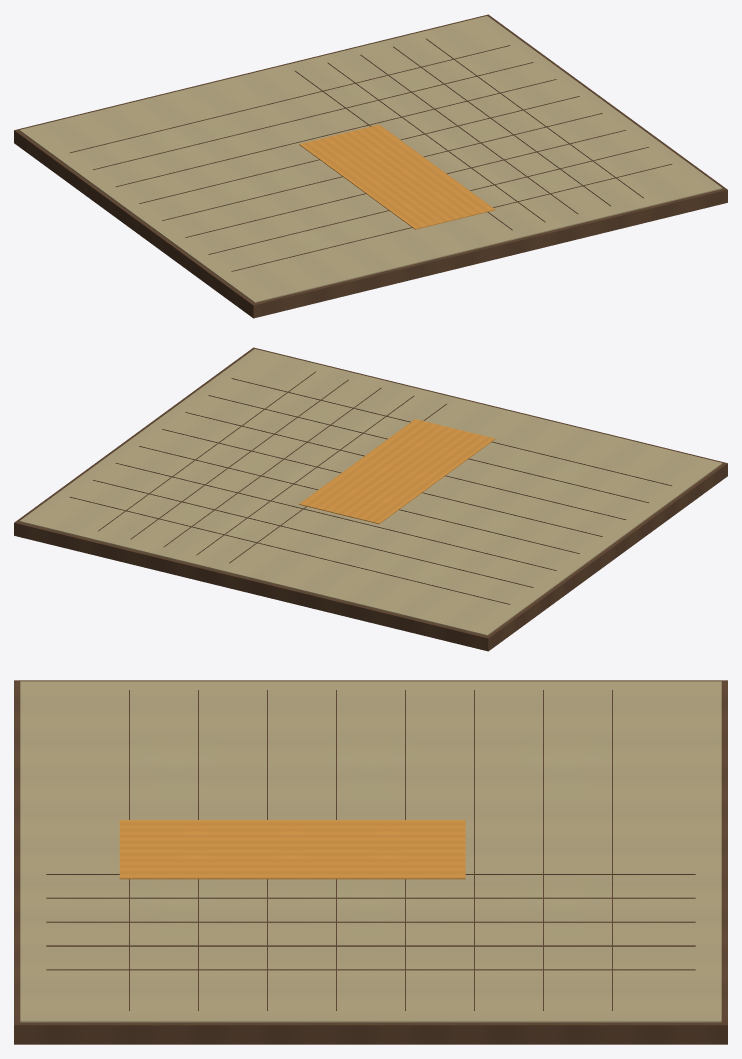
File: atlas100-s011-a07.lod2.glb
3 renders of one model, top to bottom at view 1: azimuth 30°, elevation 25°; view 2: azimuth 150°, elevation 25°; view 3: azimuth 270°, elevation 25°, orthographic. The views are drawn at different scales.
Visible parts, largest first — view 1: atlas100-s011-a07:part-001, atlas100-s011-a07:part-000, atlas100-s011-a07:part-021, atlas100-s011-a07:part-013, atlas100-s011-a07:part-014, atlas100-s011-a07:part-015, atlas100-s011-a07:part-020, atlas100-s011-a07:part-018, atlas100-s011-a07:part-019, atlas100-s011-a07:part-017, atlas100-s011-a07:part-016; view 2: atlas100-s011-a07:part-001, atlas100-s011-a07:part-000, atlas100-s011-a07:part-021, atlas100-s011-a07:part-013, atlas100-s011-a07:part-014, atlas100-s011-a07:part-015, atlas100-s011-a07:part-019, atlas100-s011-a07:part-020, atlas100-s011-a07:part-016, atlas100-s011-a07:part-018, atlas100-s011-a07:part-017; view 3: atlas100-s011-a07:part-001, atlas100-s011-a07:part-000, atlas100-s011-a07:part-021, atlas100-s011-a07:part-010, atlas100-s011-a07:part-011, atlas100-s011-a07:part-012, atlas100-s011-a07:part-009.
Boxes of the visible parts, bbox=[...] form: atlas100-s011-a07:part-001: bbox=[19, 16, 722, 302]; atlas100-s011-a07:part-000: bbox=[14, 14, 727, 318]; atlas100-s011-a07:part-021: bbox=[299, 124, 495, 229]; atlas100-s011-a07:part-013: bbox=[70, 45, 510, 152]; atlas100-s011-a07:part-014: bbox=[93, 62, 533, 169]; atlas100-s011-a07:part-015: bbox=[115, 79, 556, 186]; atlas100-s011-a07:part-020: bbox=[231, 164, 671, 271]; atlas100-s011-a07:part-018: bbox=[185, 130, 626, 237]; atlas100-s011-a07:part-019: bbox=[208, 147, 648, 254]; atlas100-s011-a07:part-017: bbox=[162, 113, 602, 220]; atlas100-s011-a07:part-016: bbox=[139, 96, 579, 203]; atlas100-s011-a07:part-001: bbox=[19, 349, 722, 635]; atlas100-s011-a07:part-000: bbox=[14, 347, 727, 651]; atlas100-s011-a07:part-021: bbox=[299, 419, 494, 523]; atlas100-s011-a07:part-013: bbox=[70, 497, 510, 604]; atlas100-s011-a07:part-014: bbox=[93, 480, 533, 587]; atlas100-s011-a07:part-015: bbox=[115, 463, 556, 570]; atlas100-s011-a07:part-019: bbox=[208, 395, 648, 502]; atlas100-s011-a07:part-020: bbox=[231, 378, 671, 485]; atlas100-s011-a07:part-016: bbox=[139, 446, 579, 553]; atlas100-s011-a07:part-018: bbox=[185, 412, 626, 519]; atlas100-s011-a07:part-017: bbox=[162, 429, 602, 536]; atlas100-s011-a07:part-001: bbox=[20, 681, 721, 1022]; atlas100-s011-a07:part-000: bbox=[14, 680, 727, 1044]; atlas100-s011-a07:part-021: bbox=[119, 820, 465, 879]; atlas100-s011-a07:part-010: bbox=[46, 921, 695, 922]; atlas100-s011-a07:part-011: bbox=[46, 945, 695, 946]; atlas100-s011-a07:part-012: bbox=[46, 969, 695, 970]; atlas100-s011-a07:part-009: bbox=[46, 897, 695, 898].
Size of the model in its own units: 13.02 by 0.404 by 11.39.
3 materials, 3 textured.
